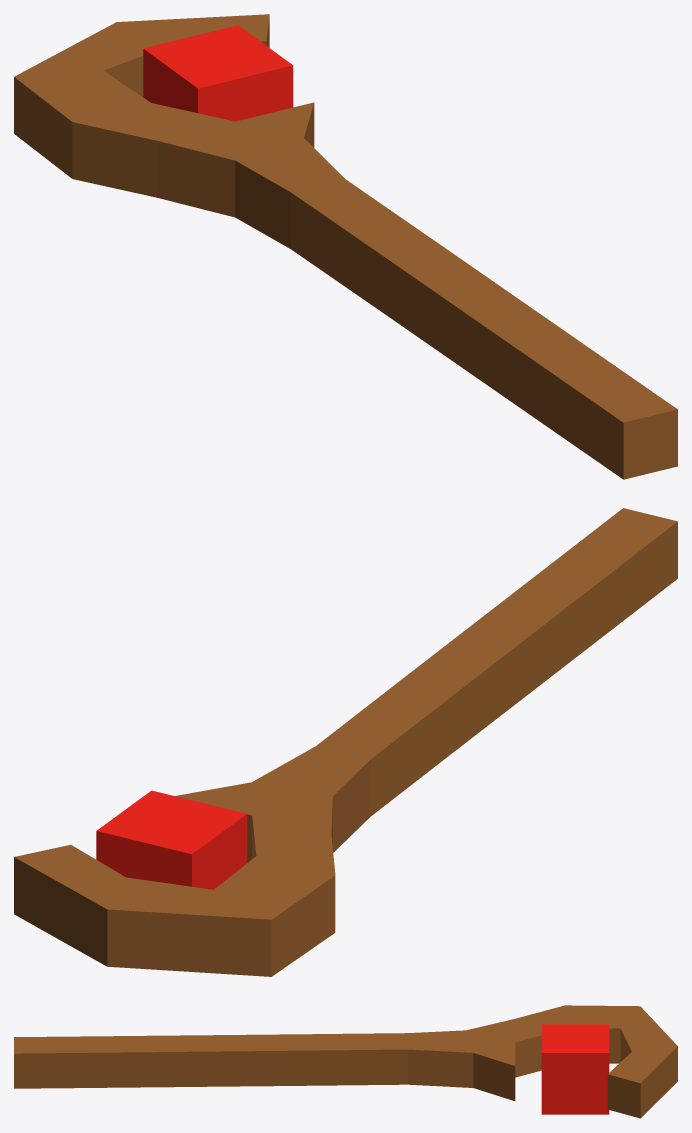
The model's file is staff.fbx.
The picture shows the model from 3 angles, top to bottom: view 1: azimuth 30°, elevation 25°; view 2: azimuth 150°, elevation 25°; view 3: azimuth 270°, elevation 25°; orthographic projection. The views are drawn at different scales.
Visible parts, largest first — view 1: Cube.001; view 2: Cube.001; view 3: Cube.001.
Part boxes in pixels (x1,y1,x2,y2): Cube.001: [14, 14, 677, 479]; Cube.001: [14, 508, 677, 976]; Cube.001: [14, 1005, 677, 1118].
Size of the model in its own units: 950 by 350 by 3420.
